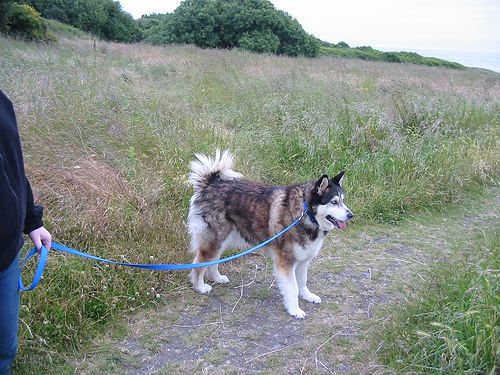dog: (184, 142, 356, 321)
